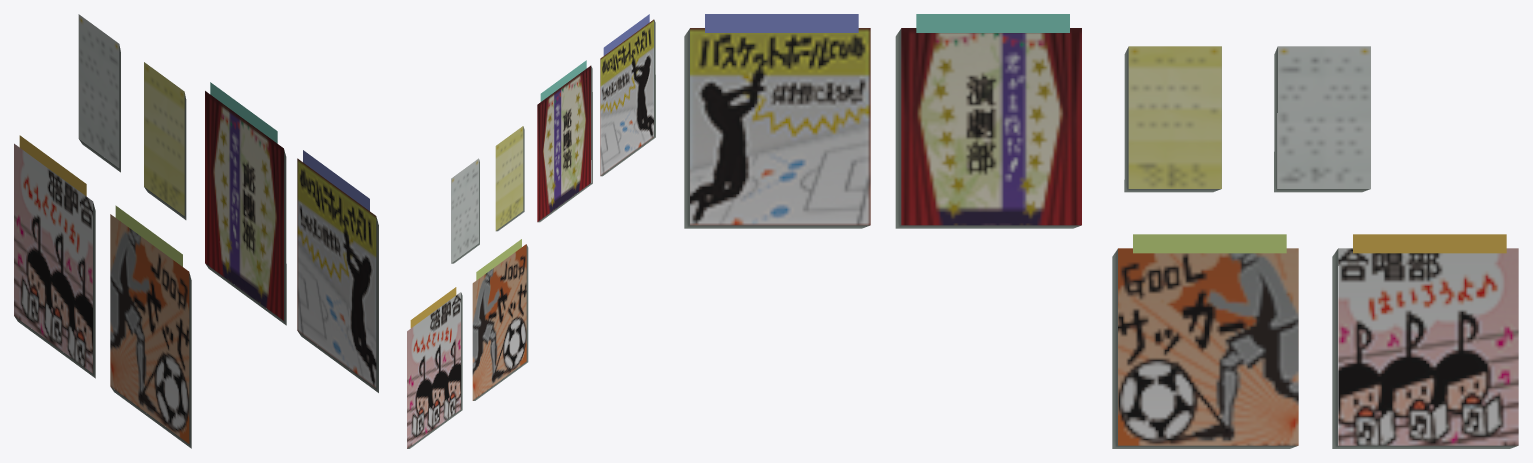
File: HW_infoD.FBX
The picture shows the model from 3 angles, left to right: view 1: azimuth 30°, elevation 25°; view 2: azimuth 150°, elevation 25°; view 3: azimuth 270°, elevation 25°; orthographic projection. The views are drawn at different scales.
Parts seen in each view (by area): view 1: HW_infoD; view 2: HW_infoD; view 3: HW_infoD.
Part boxes in pixels (x1,y1,x2,y2): HW_infoD: (14, 14, 378, 448); HW_infoD: (407, 14, 655, 448); HW_infoD: (684, 14, 1518, 448).
Size of the model in its own units: 0.0529 by 124 by 215.
